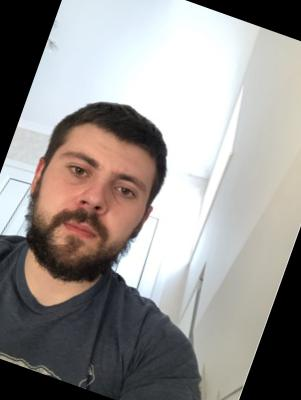without_mask: (13, 135, 159, 301)
